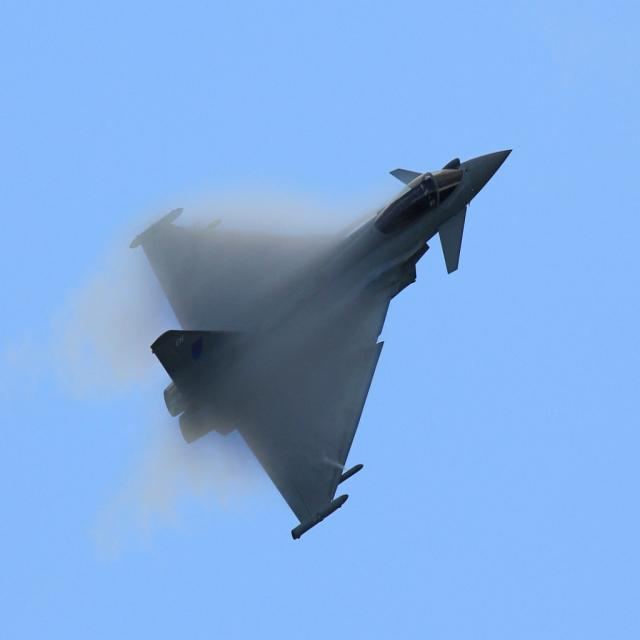MIL_Plane: (129, 148, 513, 540)
